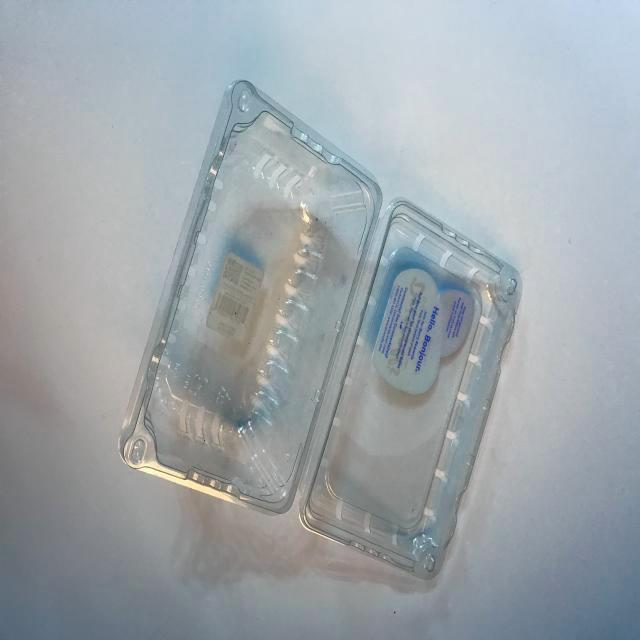plastic: (117, 65, 528, 605)
